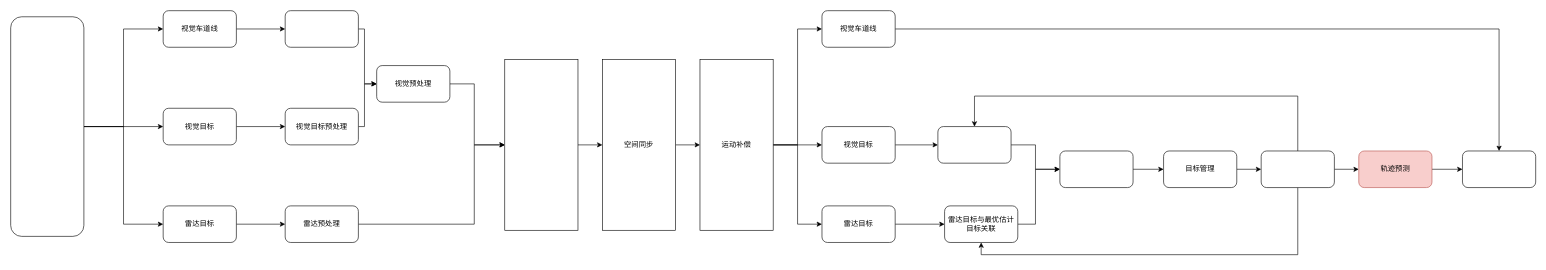
The diagram is 1546 pixels wide and 270 high, and some of its shapes have lost their labels. The shapes that lost their labels are listed below. From the top down, each one's centre as x and y in pixels, then its label:
point (321, 28): 视觉车道线预处理
point (47, 126): 格式化输入
point (541, 144): 时间同步
point (974, 144): 视觉目标与最优估计目标关联
point (1096, 169): 视觉目标、雷达目标、进行融合
point (1297, 169): 跟踪:最优估计
point (1499, 169): 格式化输出
